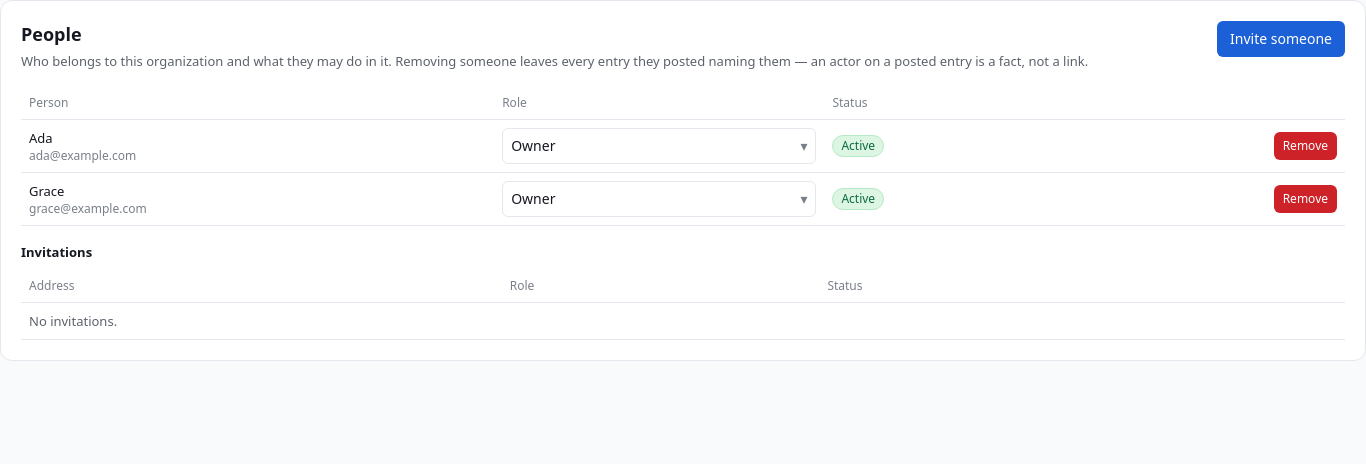
Scenario: MembersSection › renders the server refusal legibly when the Owner set changed underneath
Expected: the text "Ada" is shown, [29,129,53,147]
Click the dropdown named "Role for Ada". click: x=533, y=146
box: [502,128,816,164]
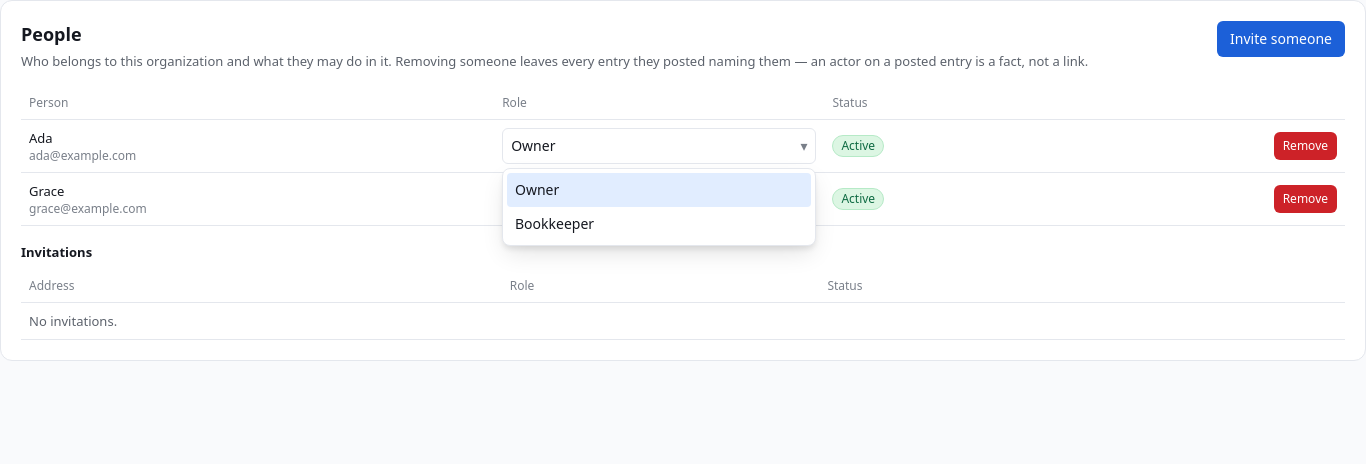
Click the option "Bookkeeper". click: x=555, y=224
box: [515,214,594,233]
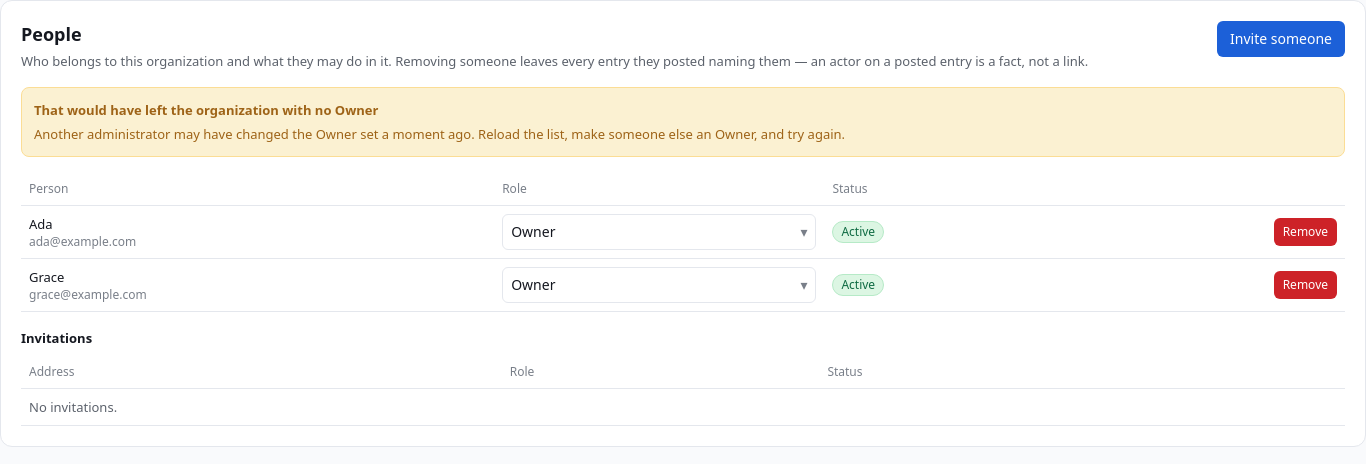
Now the text "That would have left the organization with no Owner" is shown, box [34,101,378,119]
Now the text "Make someone else an Owner, and try again" is shown, box [34,125,845,143]
